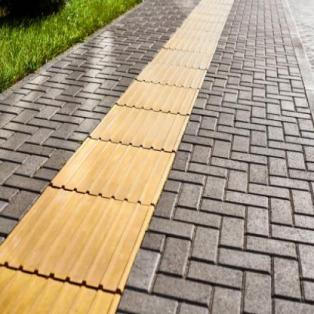Podoctatil: (0, 0, 232, 312)
